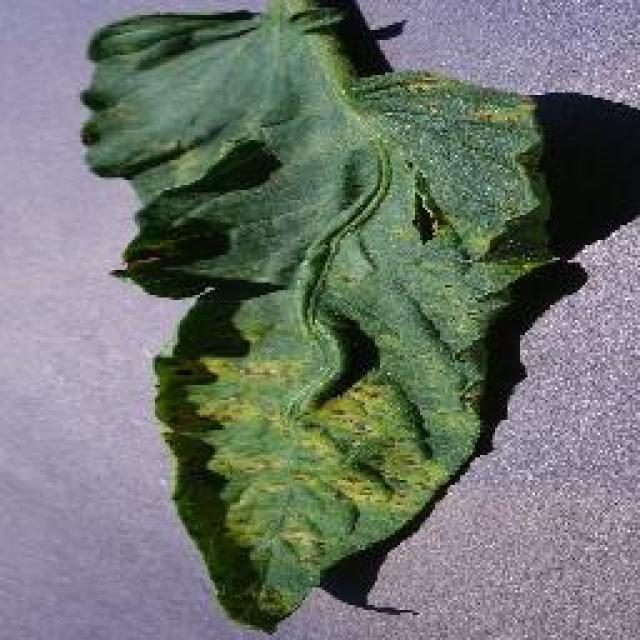Tomato___Septoria_leaf_spot: (82, 0, 558, 628)
